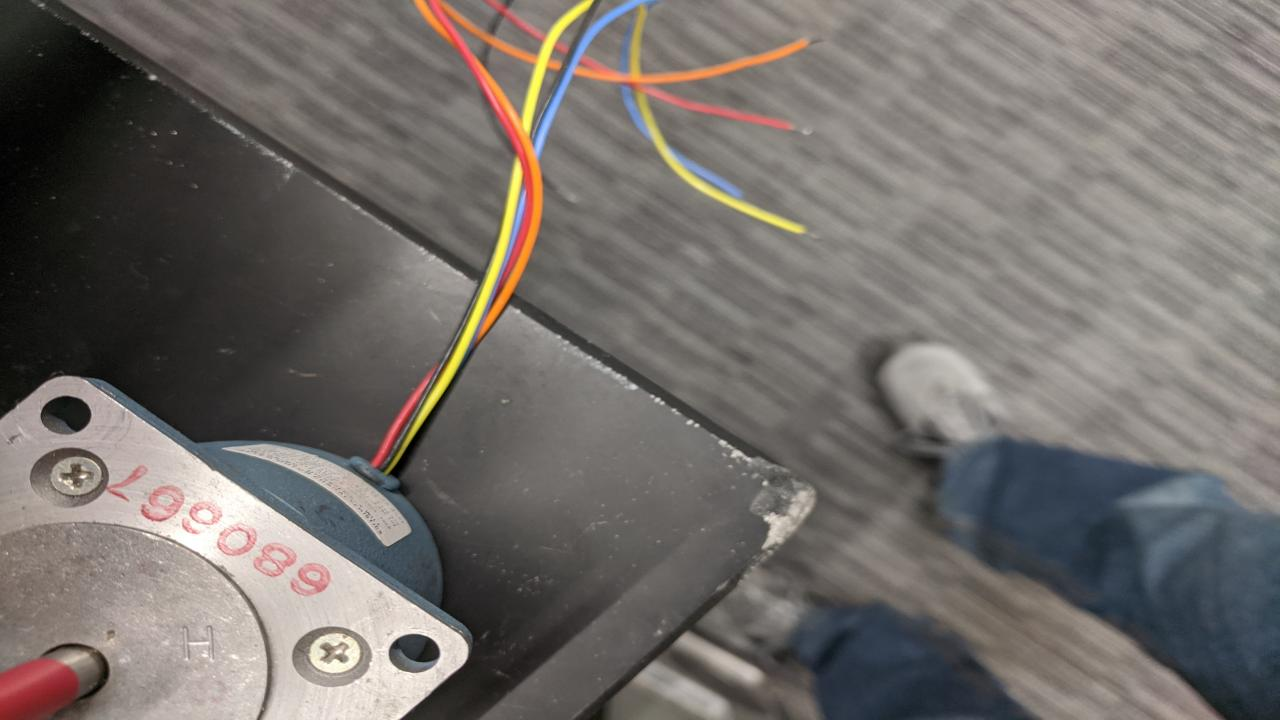CRS: (306, 631, 368, 677), (53, 452, 105, 498)
